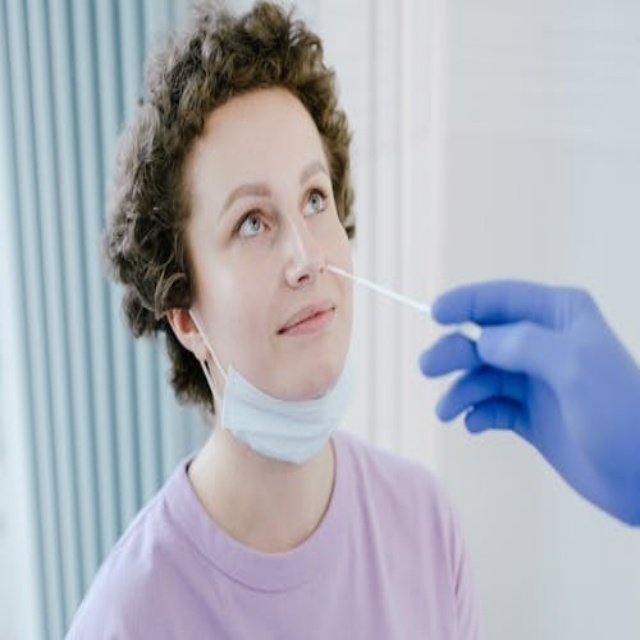Sin_gafas: (193, 152, 337, 267)
Sin_guantes: (417, 279, 637, 537)
Sin_mascara: (260, 286, 353, 379)
